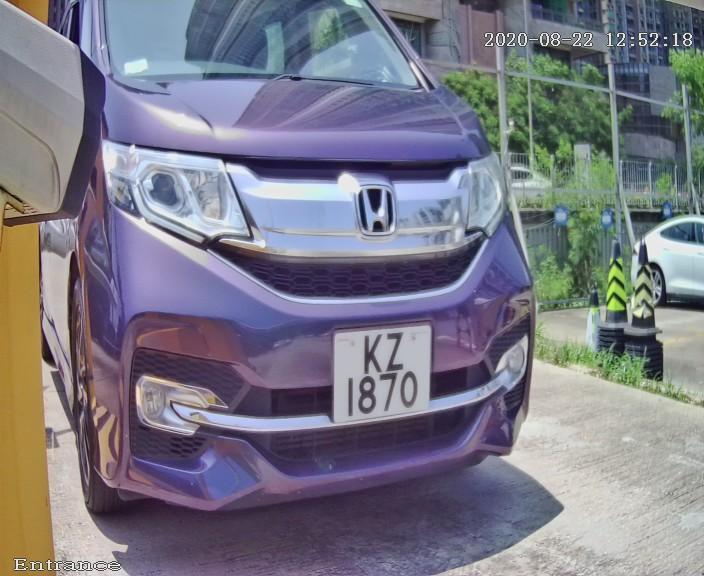License Plate: (324, 312, 441, 435)
